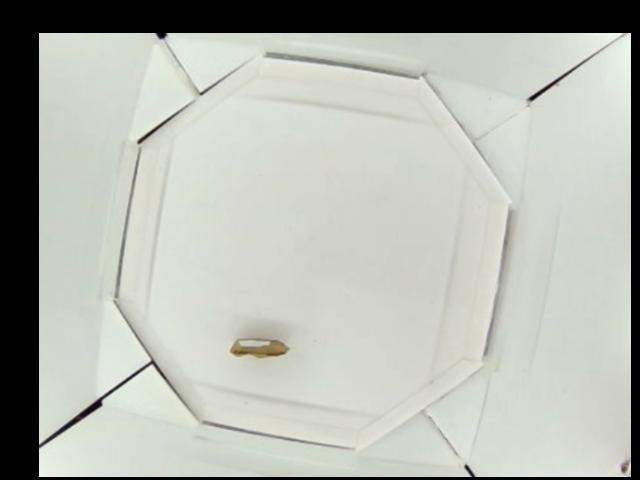China: (232, 335, 290, 361)
